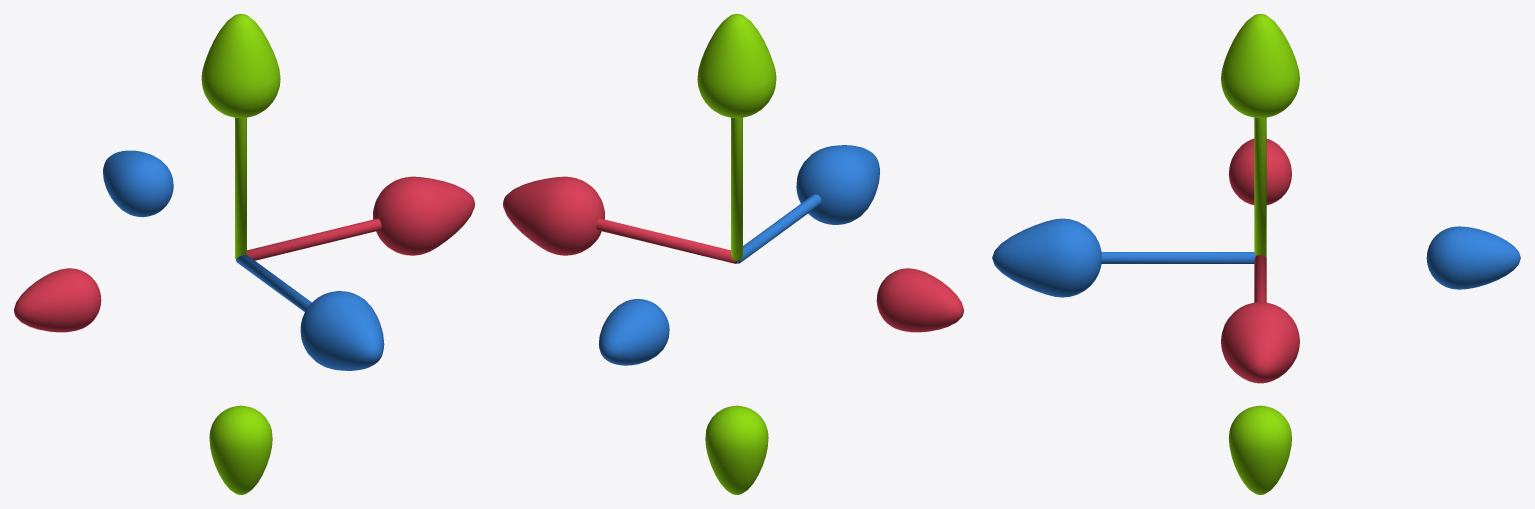
Rendered from axesHelper.glb.
3 renders of one model, left to right at view 1: azimuth 30°, elevation 25°; view 2: azimuth 150°, elevation 25°; view 3: azimuth 270°, elevation 25°, orthographic.
Parts seen in each view (by area): view 1: yAxis, xAxis, zAxis, yAxisR, xAxisR, zAxisR; view 2: yAxis, xAxis, zAxis, yAxisR, xAxisR, zAxisR; view 3: zAxis, yAxis, xAxis, zAxisR, yAxisR, xAxisR.
Boxes of the visible parts, x1=… form: yAxis: x1=201, y1=14, x2=280, y2=258; xAxis: x1=247, y1=176, x2=474, y2=260; zAxis: x1=236, y1=254, x2=384, y2=370; yAxisR: x1=209, y1=405, x2=272, y2=494; xAxisR: x1=14, y1=268, x2=101, y2=332; zAxisR: x1=103, y1=150, x2=173, y2=217; yAxis: x1=697, y1=14, x2=776, y2=260; xAxis: x1=503, y1=176, x2=736, y2=263; zAxis: x1=737, y1=145, x2=879, y2=263; yAxisR: x1=705, y1=405, x2=768, y2=494; xAxisR: x1=876, y1=268, x2=963, y2=332; zAxisR: x1=598, y1=299, x2=669, y2=365; zAxis: x1=992, y1=218, x2=1255, y2=297; yAxis: x1=1221, y1=14, x2=1299, y2=257; xAxis: x1=1221, y1=255, x2=1299, y2=383; zAxisR: x1=1426, y1=226, x2=1520, y2=289; yAxisR: x1=1228, y1=405, x2=1291, y2=494; xAxisR: x1=1229, y1=138, x2=1291, y2=205.
Size of the model in its own units: 1.54 by 1.54 by 1.54.
